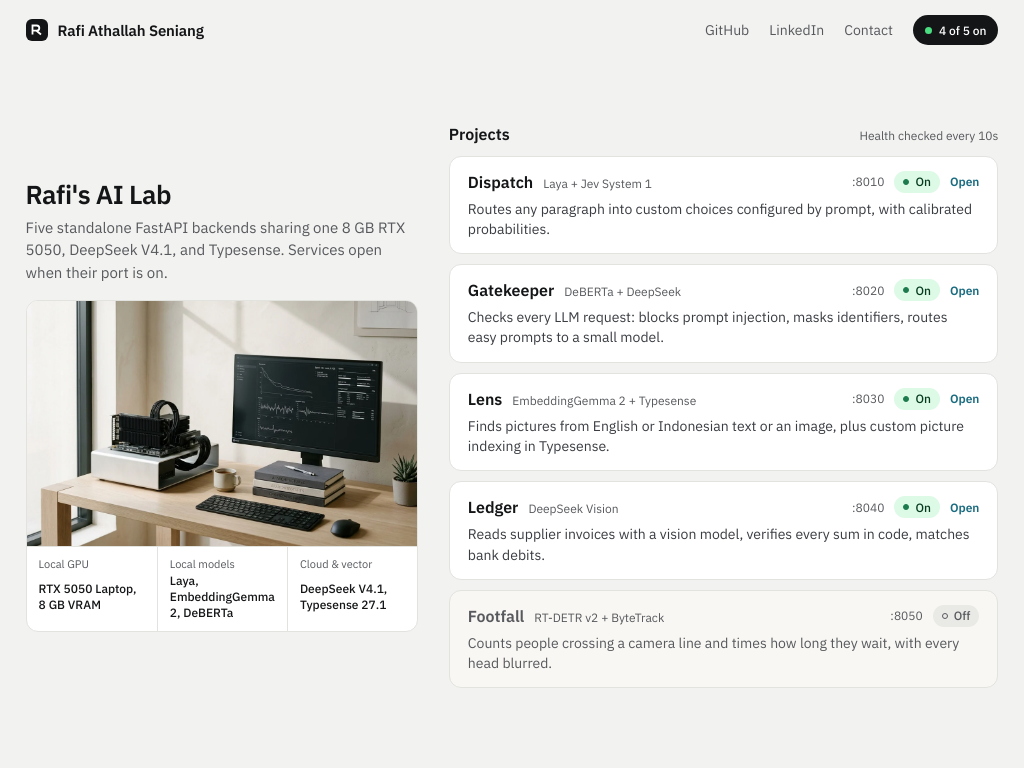
Scenario: projects whose backend answers /health show On and link to their route
Expected: the text "On" next to "8010" is shown, [915,174,931,189]
Expected: the text "On" next to "8030" is shown, [915,391,931,406]
Click the button "Contact".
click(869, 30)  # box [844,21,893,39]
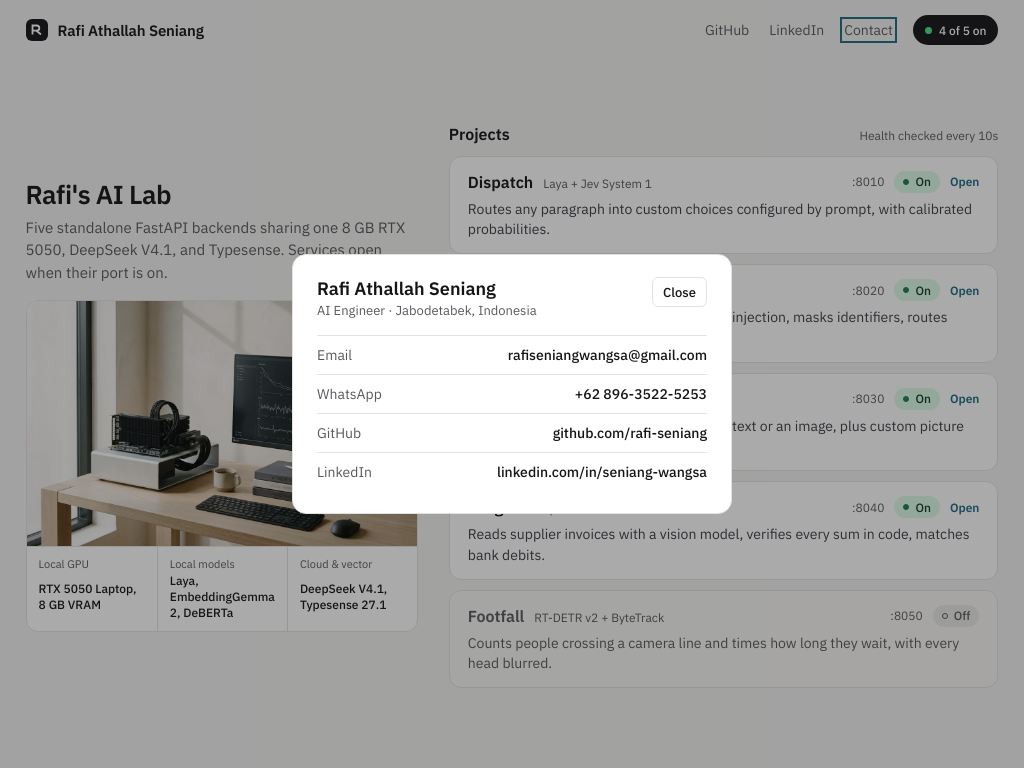
Expected: the link "rafiseniangwangsa@gmail.com" is shown, [508,346,707,364]
Expected: the link "+62 896-3522-5253" is shown, [575,385,707,403]
Expected: the link "github.com/rafi-seniang" is shown, [553,424,707,442]
